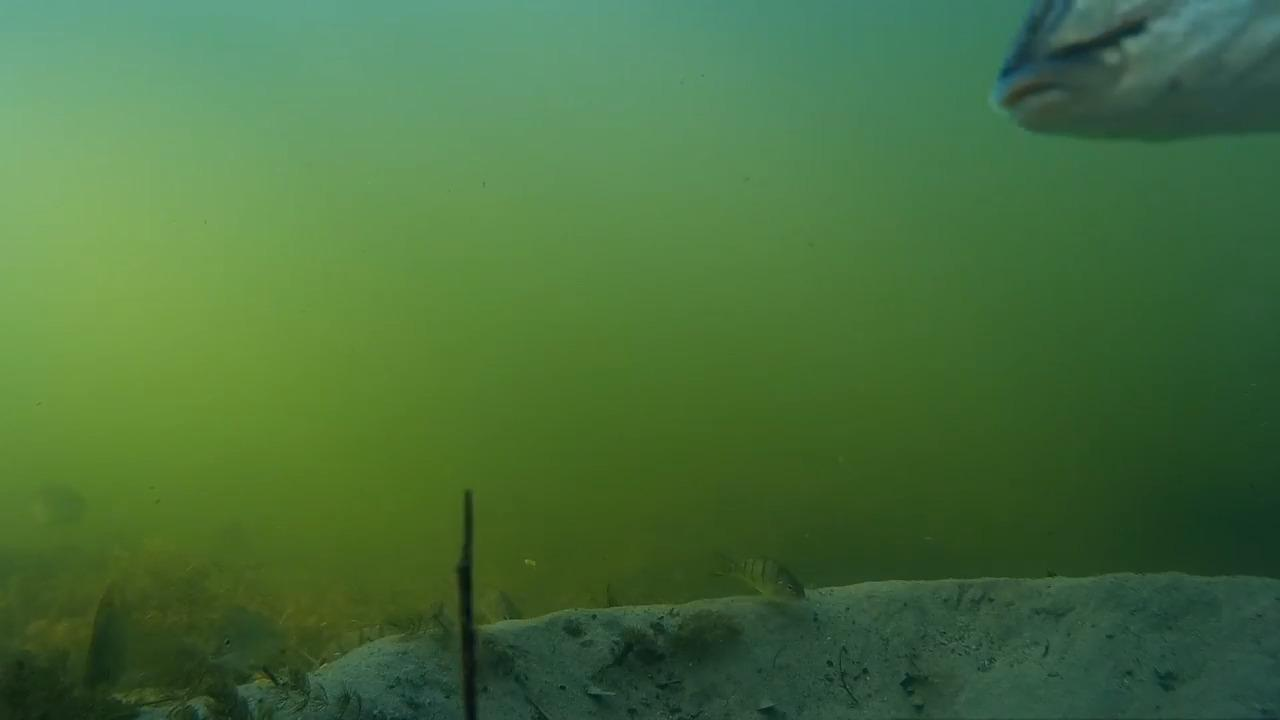Tilapia: (996, 3, 1276, 151), (79, 580, 149, 694), (199, 594, 303, 668), (716, 532, 815, 606)
